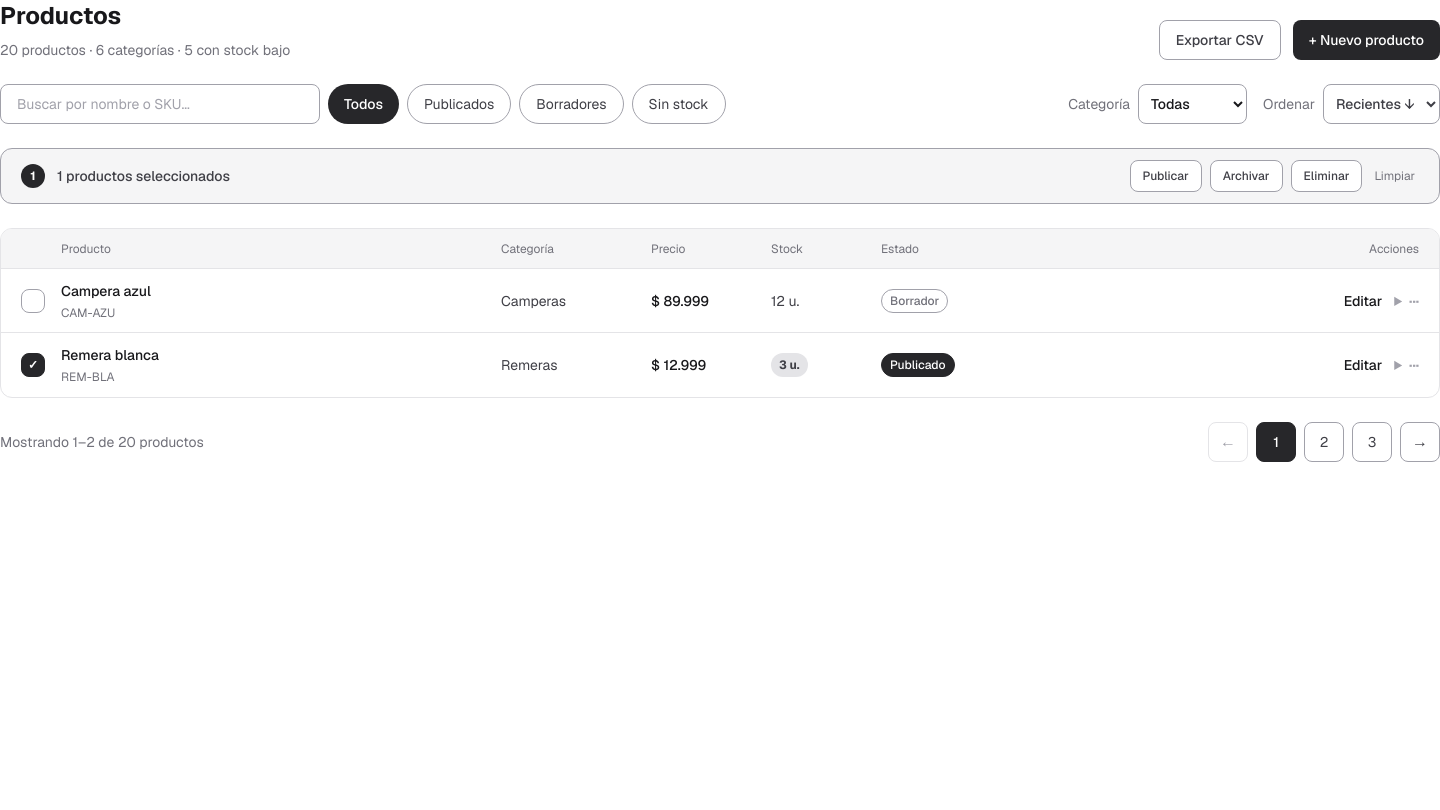
it: AdminProductsWorkspace › asks for confirmation before archiving the selection
Click the button "Archivar" at (1246, 176), box [1210,160,1282,192]
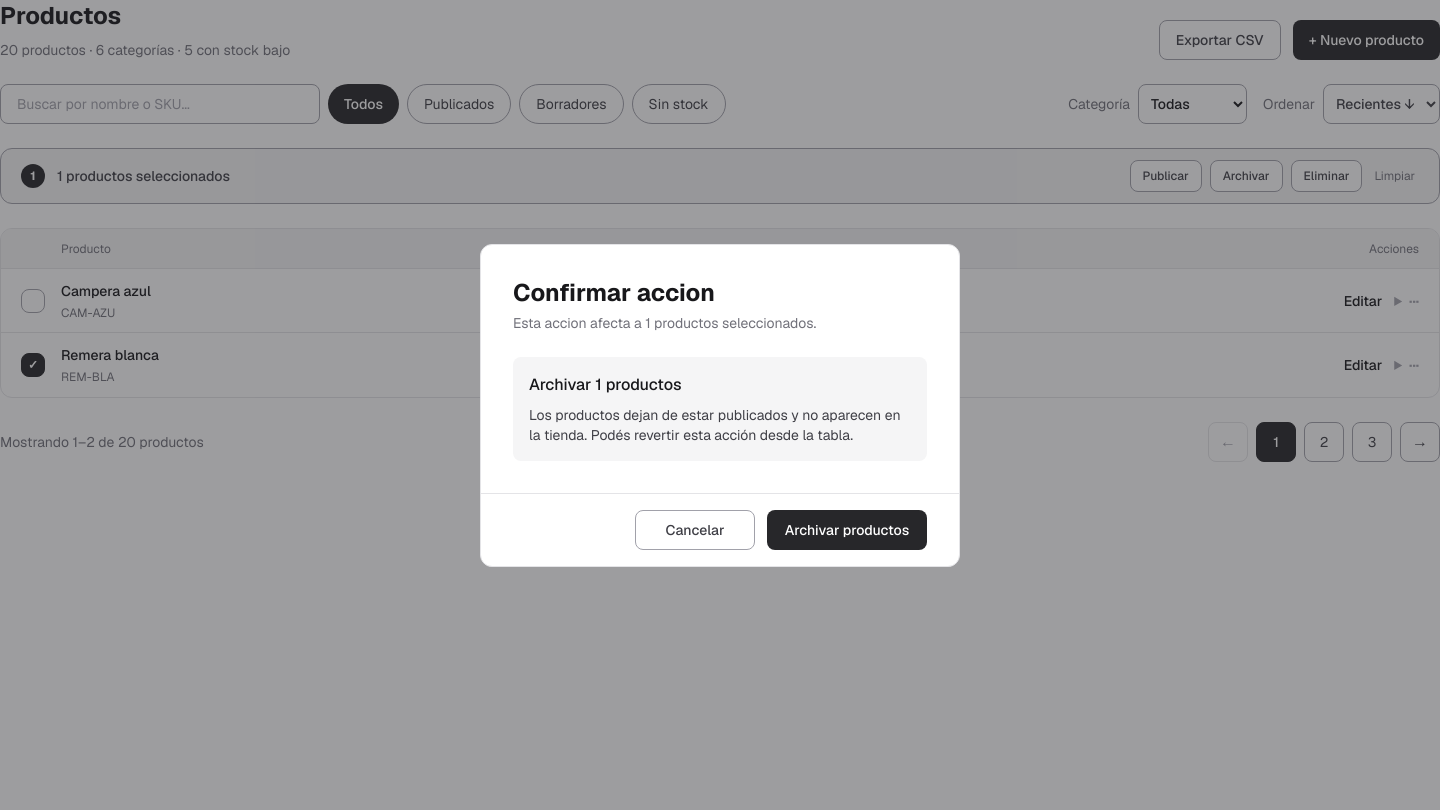
Check: the text "Archivar 1 productos" is shown, box [529,374,682,394]
Click the button "Archivar productos" at (847, 530), box [767,510,927,550]
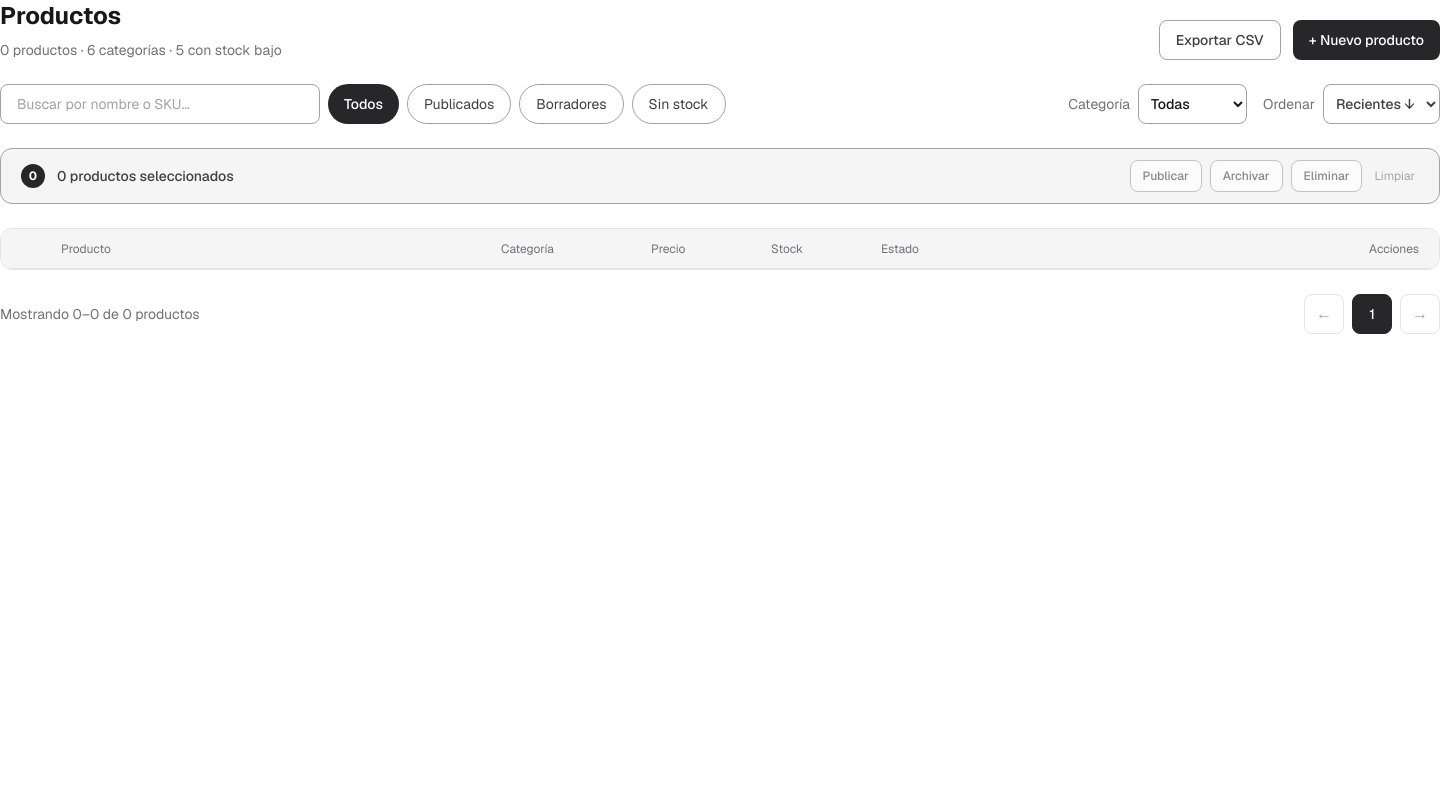
Check: the dialog is gone
